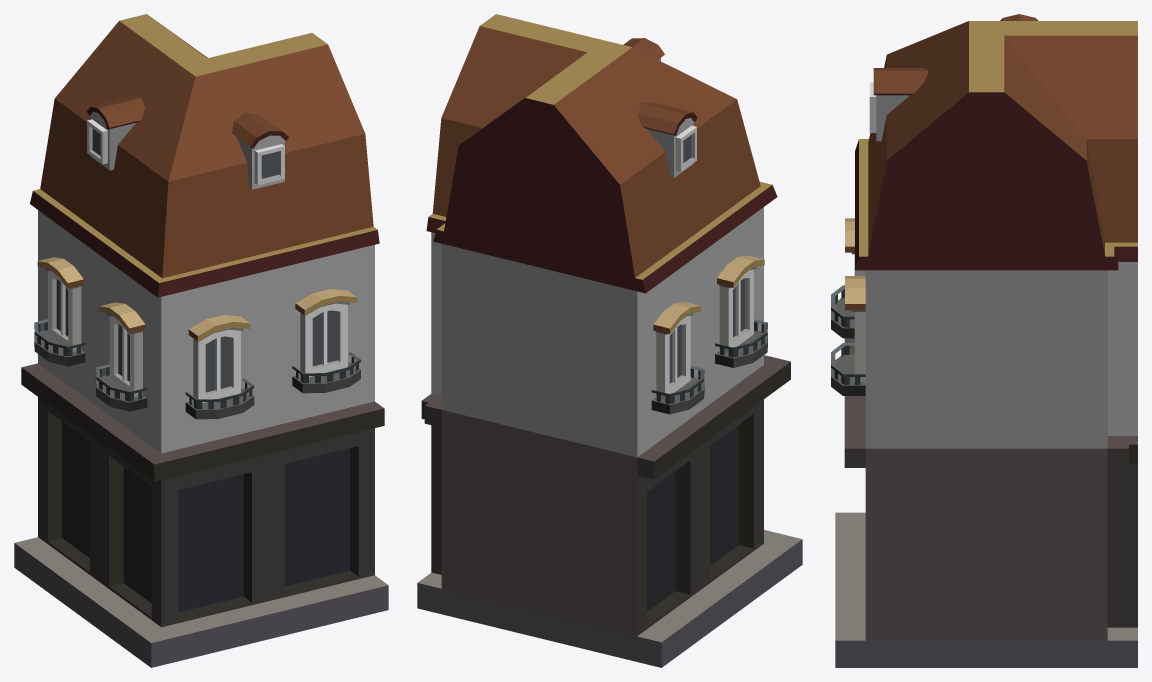
The model's file is TB_CITY_BD_R_Corner_2_C.FBX.
3 renders of one model, left to right at view 1: azimuth 30°, elevation 25°; view 2: azimuth 150°, elevation 25°; view 3: azimuth 270°, elevation 25°, orthographic. The views are drawn at different scales.
Parts seen in each view (by area): view 1: TB_CITY_BD_R_Corner_2_C; view 2: TB_CITY_BD_R_Corner_2_C; view 3: TB_CITY_BD_R_Corner_2_C.
Boxes of the visible parts, x1,y1,x2,y2 form: TB_CITY_BD_R_Corner_2_C: (14,14,388,667); TB_CITY_BD_R_Corner_2_C: (417,14,802,667); TB_CITY_BD_R_Corner_2_C: (831,14,1137,667).
Bounding box in the file's own units: 8.11 × 16.78 × 8.11.
